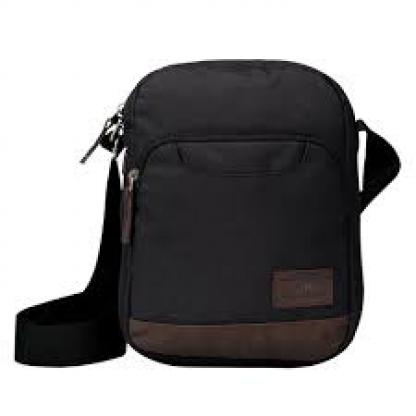morral: (15, 48, 403, 381)
